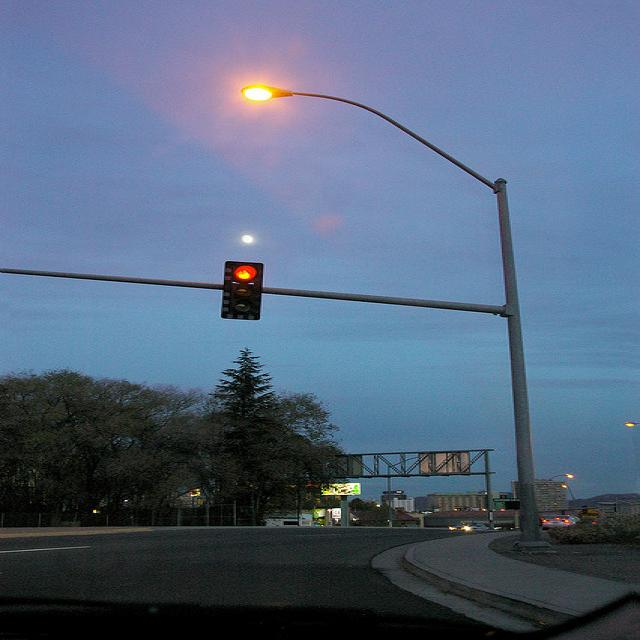Vehicle: (543, 516, 581, 530), (448, 522, 488, 534), (574, 515, 600, 524)
